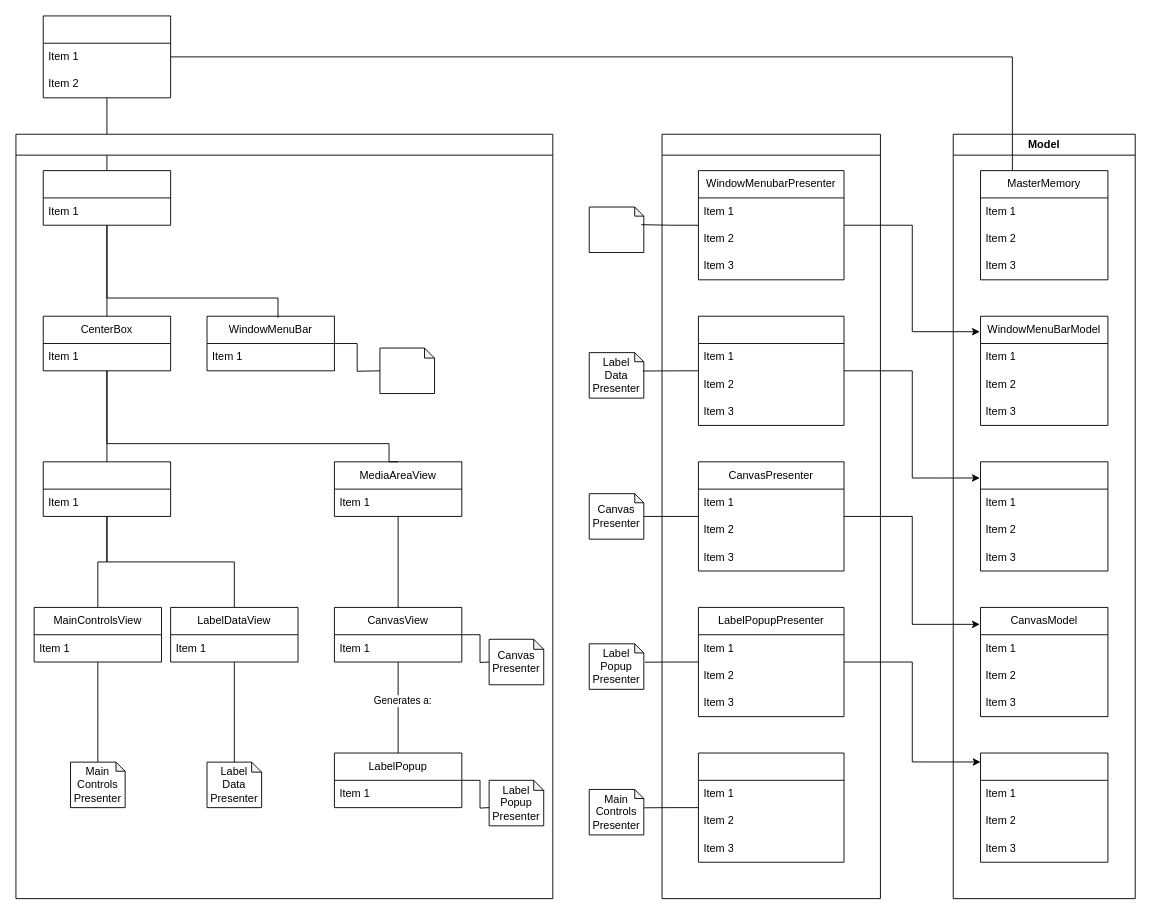
The diagram is 1151 pixels wide and 915 high, and some of its shapes have lost their labels. Here are the shapes that lost their labels. From the top down, the box of each, then its label:
(42, 15, 171, 98): Main
(42, 170, 171, 225): mainWindowView
(588, 206, 644, 253): Window Menu Bar
(379, 347, 435, 394): Window Menubar Presenter
(698, 315, 844, 425): LabelDataPresenter
(42, 461, 171, 516): ControlAreaView
(15, 133, 553, 899): Views
(661, 133, 880, 899): Presenters
(980, 461, 1108, 571): LabelData
(698, 752, 844, 862): MainControlsPresenter
(980, 752, 1108, 862): LabelPopupModel
